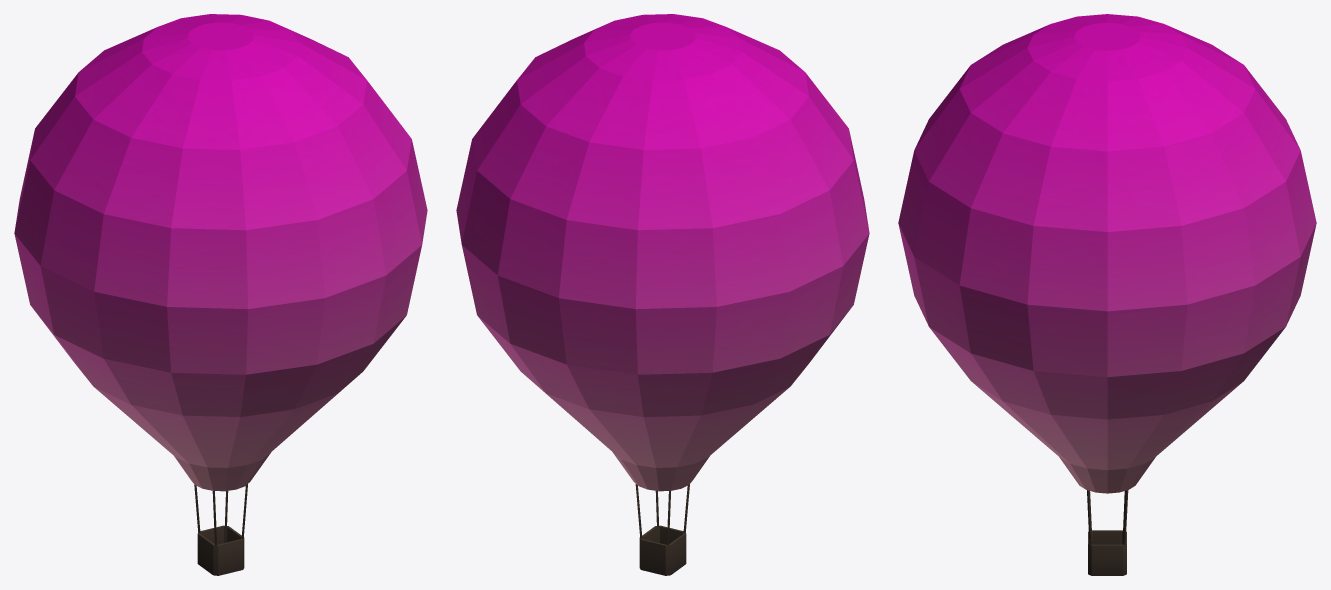
The model's file is prop_baloon_H.FBX.
3 renders of one model, left to right at view 1: azimuth 30°, elevation 25°; view 2: azimuth 150°, elevation 25°; view 3: azimuth 270°, elevation 25°, orthographic.
Visible parts, largest first — view 1: prop_baloon_H; view 2: prop_baloon_H; view 3: prop_baloon_H.
Boxes of the visible parts, left/top/right/bottom form: prop_baloon_H: left=14, top=14, right=427, bottom=575; prop_baloon_H: left=456, top=14, right=869, bottom=575; prop_baloon_H: left=898, top=14, right=1316, bottom=575.
Size of the model in its own units: 591 by 828 by 591.
1 material, 1 textured.
